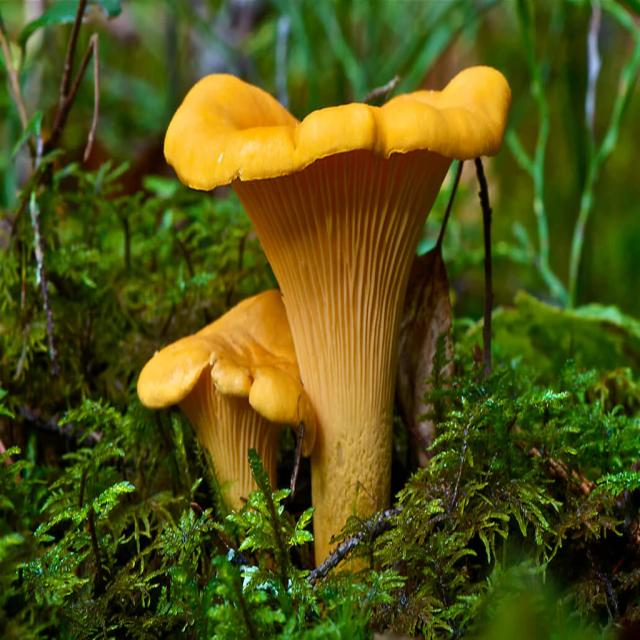chanterelle: (162, 67, 511, 567), (136, 290, 318, 500)
